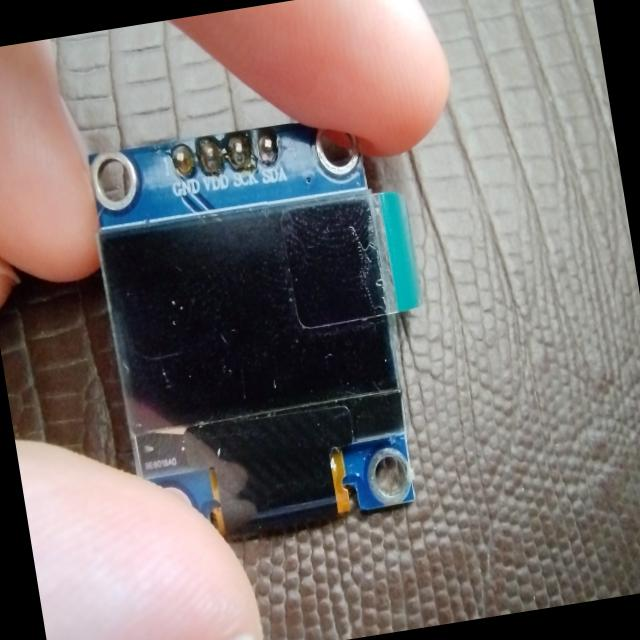oled: (69, 85, 468, 565)
